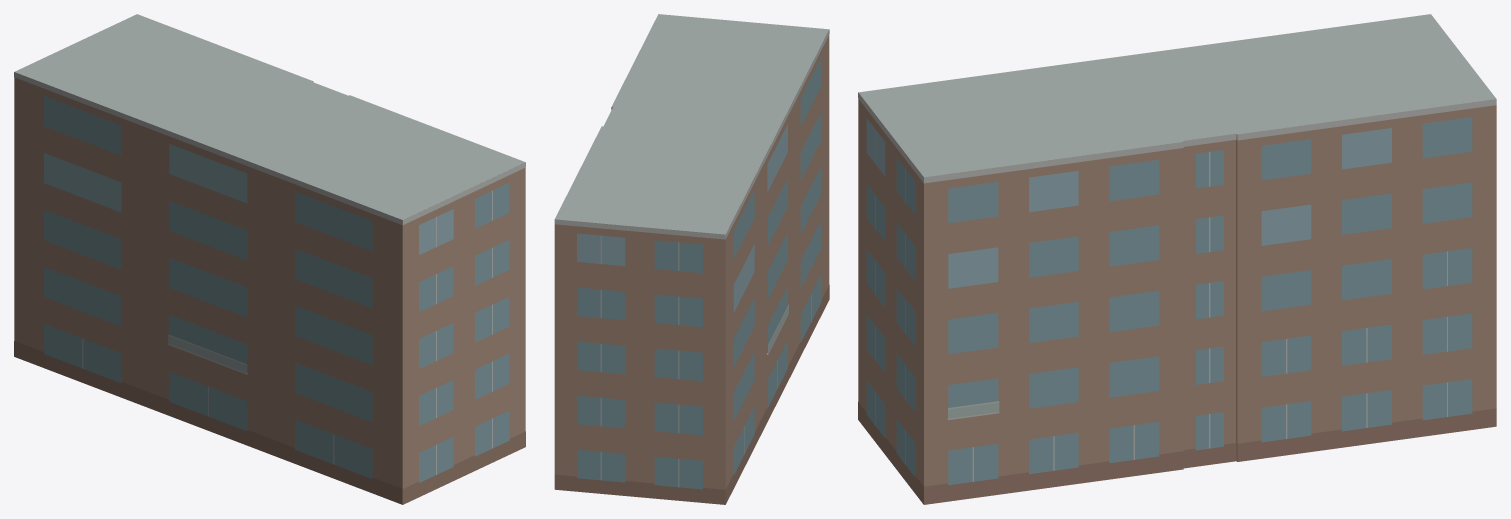
The model's file is survey-upis-32621793.glb.
The picture shows the model from 3 angles, left to right: view 1: azimuth 30°, elevation 25°; view 2: azimuth 150°, elevation 25°; view 3: azimuth 270°, elevation 25°; orthographic projection. The views are drawn at different scales.
Parts seen in each view (by area): view 1: survey-upis-32621793.tmp; view 2: survey-upis-32621793.tmp; view 3: survey-upis-32621793.tmp.
Boxes of the visible parts, bbox=[...] form: survey-upis-32621793.tmp: bbox=[14, 14, 525, 504]; survey-upis-32621793.tmp: bbox=[554, 14, 829, 504]; survey-upis-32621793.tmp: bbox=[858, 14, 1496, 504].
Bounding box in the file's own units: 14.24 × 13.3 × 23.51.
